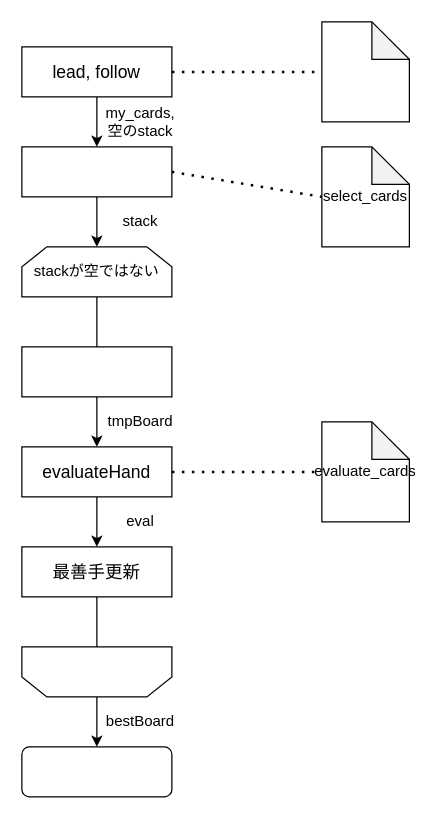
Some shapes in this 438 by 819 pixel diagram are drawn without their labels. The box of each missing label's shape, as (x1, y1, x2, y2) in pixels:
daihinmin: (321, 21, 409, 122)
generateHands: (21, 146, 172, 197)
stack.pop: (21, 346, 172, 397)
